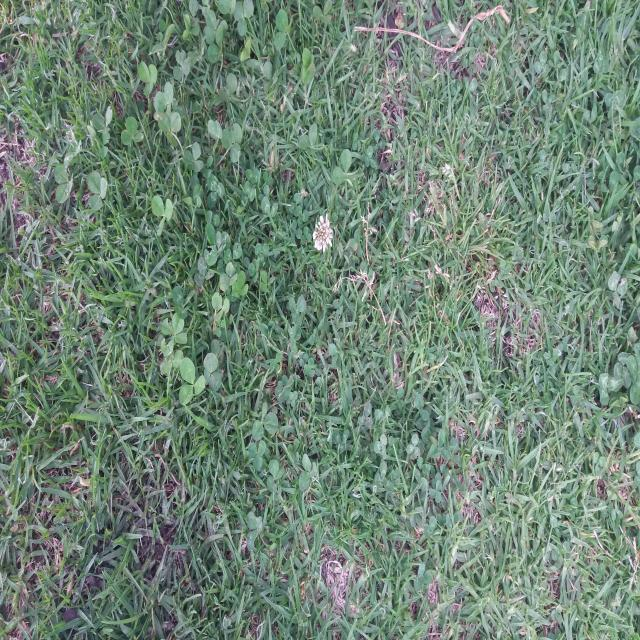Four Leaf Clover: (160, 312, 187, 357)
